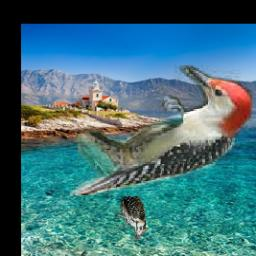Woodpecker: (70, 66, 252, 196), (115, 196, 146, 242)
